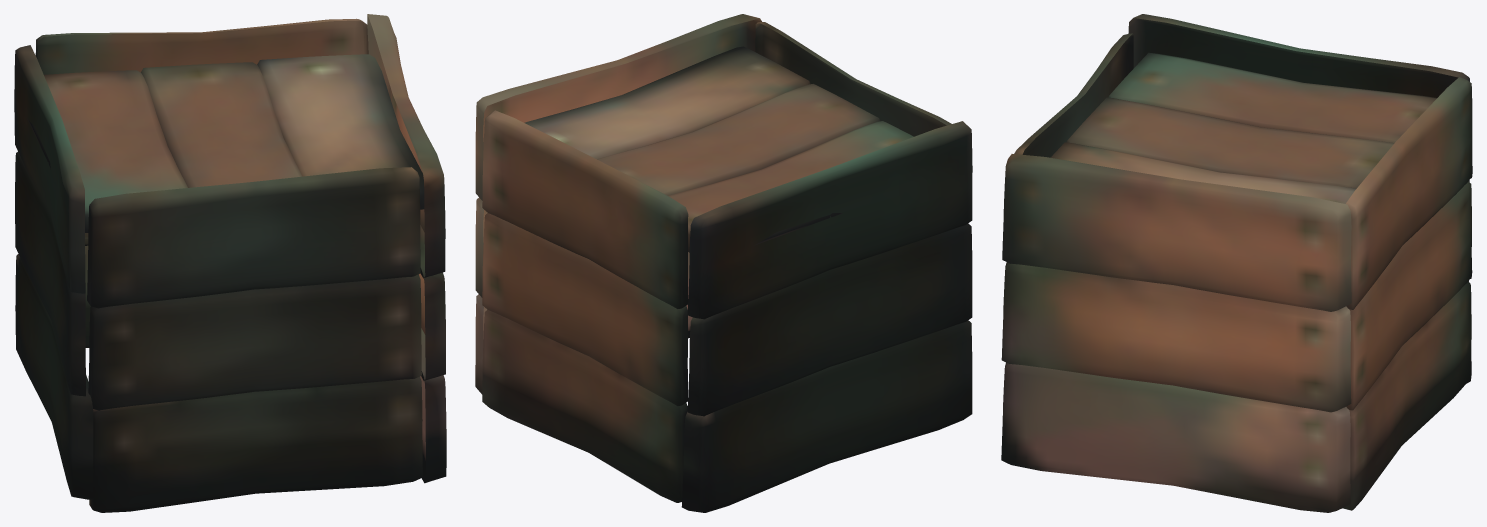
Rendered from Beach_Tavern_Crate.glb.
3 renders of one model, left to right at view 1: azimuth 30°, elevation 25°; view 2: azimuth 150°, elevation 25°; view 3: azimuth 270°, elevation 25°, orthographic. The views are drawn at different scales.
Visible parts, largest first — view 1: Object_2.005; view 2: Object_2.005; view 3: Object_2.005.
Boxes of the visible parts, bbox=[...] form: Object_2.005: bbox=[14, 14, 446, 512]; Object_2.005: bbox=[475, 14, 972, 512]; Object_2.005: bbox=[1001, 14, 1472, 512].
Bounding box in the file's own units: 8.67 × 6.38 × 8.55.
Materials: 1 (1 with a texture image).
